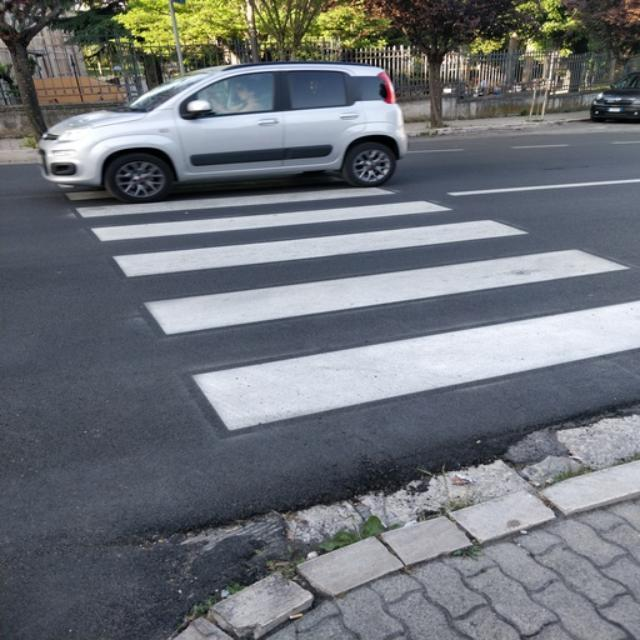sidewalk: (54, 128, 640, 562)
